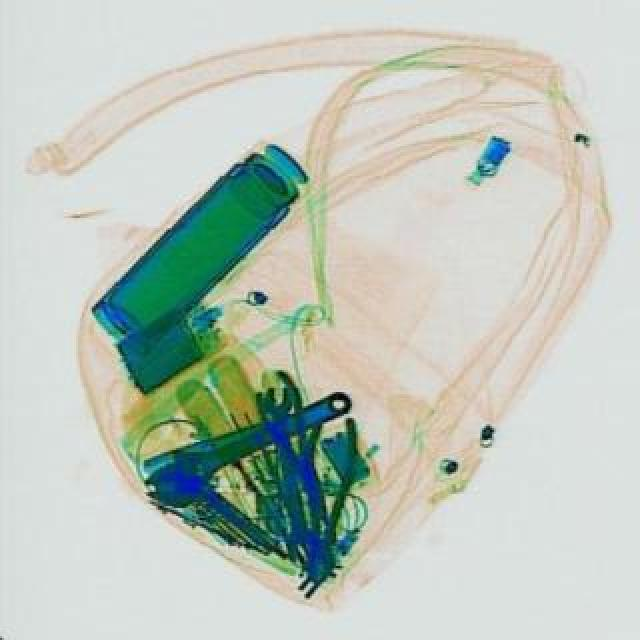scissors: (132, 370, 360, 514)
wrench: (242, 366, 338, 504), (294, 412, 358, 580)
